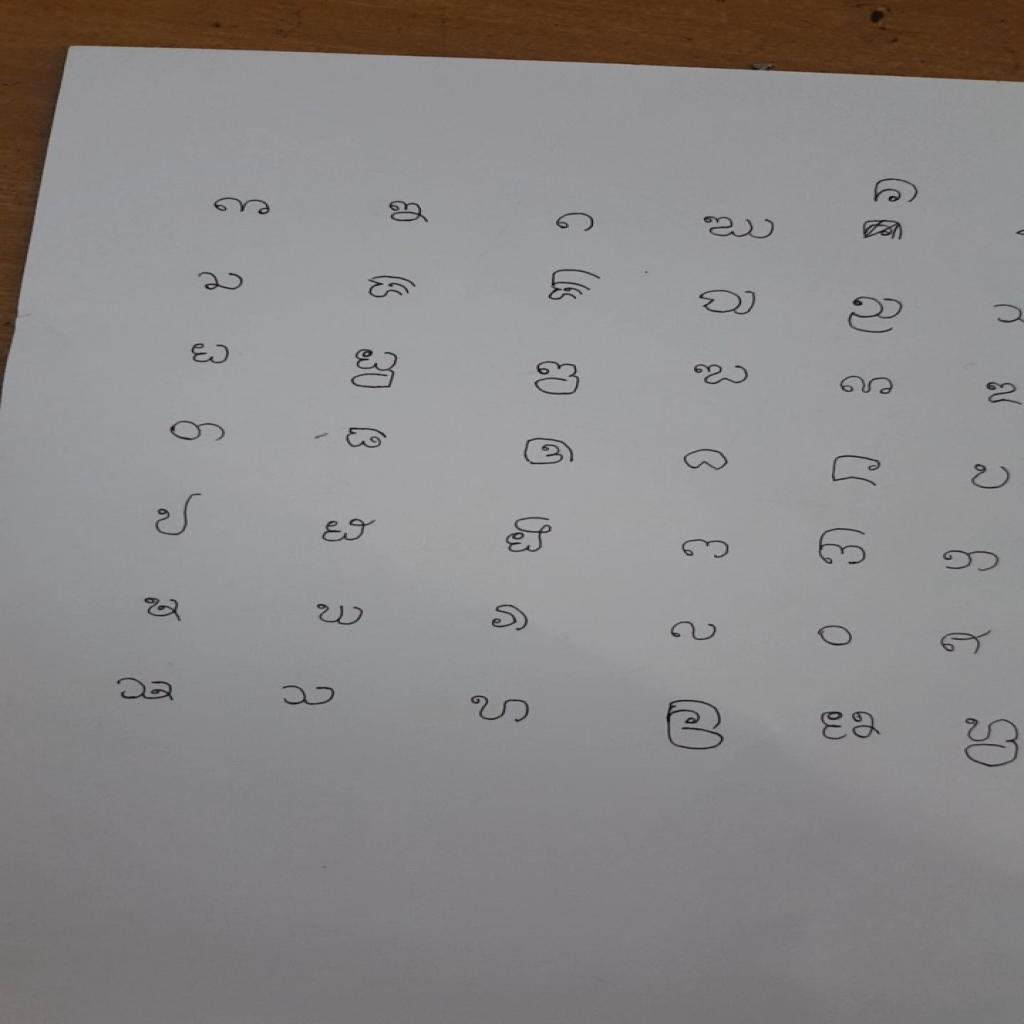LN001: (210, 196, 279, 220)
LN002: (383, 197, 437, 228)
LN003: (553, 211, 602, 236)
LN004: (698, 214, 783, 243)
LN005: (869, 176, 927, 207)
LN007: (192, 268, 252, 296)
LN008: (363, 273, 423, 302)
LN009: (545, 266, 609, 305)
LN010: (695, 287, 764, 319)
LN011: (845, 295, 910, 337)
LN013: (188, 340, 238, 369)
LN014: (348, 346, 406, 393)
LN015: (530, 358, 587, 399)
LN016: (689, 362, 756, 389)
LN017: (835, 372, 900, 400)
LN019: (167, 418, 233, 446)
LN020: (341, 425, 394, 453)
LN021: (517, 435, 582, 470)
LN022: (680, 447, 736, 475)
LN023: (826, 452, 889, 490)
LN024: (965, 462, 1018, 493)
LN025: (151, 489, 207, 540)
LN026: (316, 516, 381, 547)
LN027: (500, 515, 557, 558)
LN028: (677, 537, 737, 563)
LN029: (814, 525, 874, 570)
LN030: (939, 547, 1006, 576)
LN031: (139, 594, 189, 627)
LN032: (313, 601, 371, 630)
LN033: (485, 601, 537, 636)
LN034: (668, 619, 725, 646)
LN035: (815, 623, 860, 651)
LN036: (937, 627, 1000, 660)
LN037: (111, 675, 182, 706)
LN038: (278, 682, 343, 710)
LN039: (467, 693, 538, 727)
LN040: (662, 696, 734, 755)
LN041: (816, 707, 889, 746)
LN042: (958, 713, 1024, 773)
